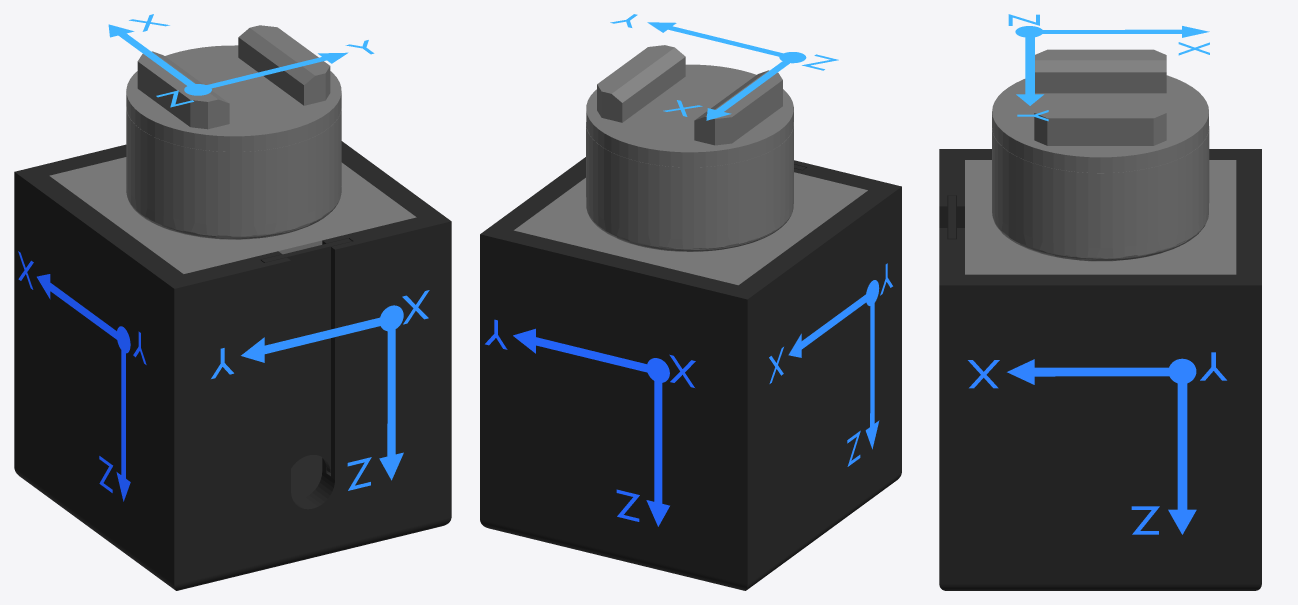
File: acc_model2.glb
3 views of the same model, side by side, from view 1: azimuth 30°, elevation 25°; view 2: azimuth 150°, elevation 25°; view 3: azimuth 270°, elevation 25° (orthographic). The views are drawn at different scales.
Parts seen in each view (by area): view 1: Text; view 2: Text; view 3: Text.
Boxes of the visible parts, box(x1,y1,x2,y2) form: Text: box(14, 14, 451, 590); Text: box(480, 14, 901, 590); Text: box(939, 14, 1261, 590).
Bounding box in the file's own units: 41.13 × 60.77 × 41.31.
